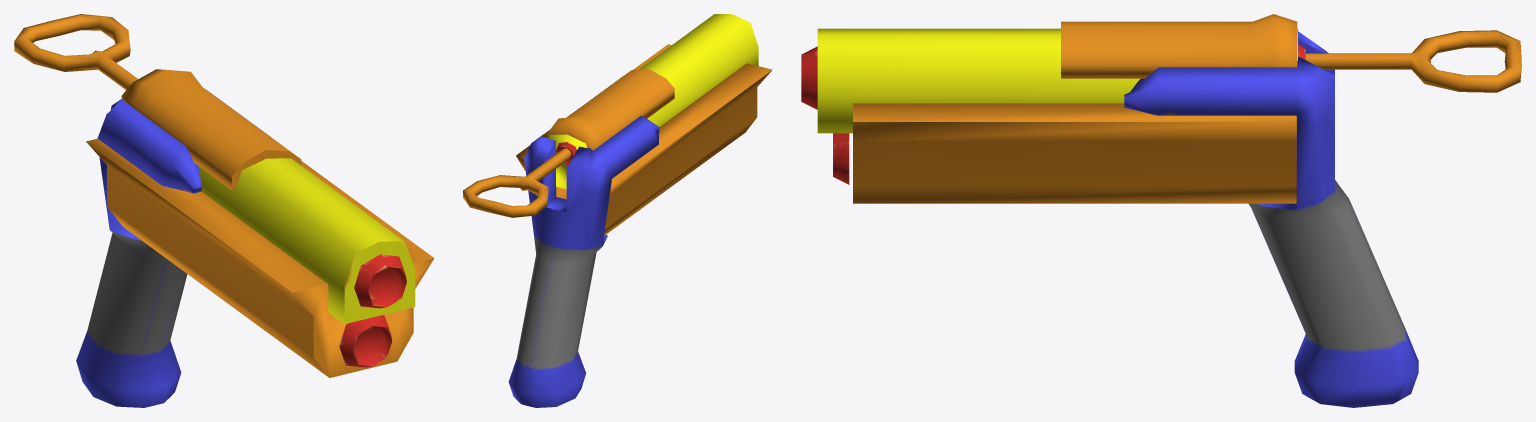
File: NerfGun.fbx
3 views of the same model, side by side, from view 1: azimuth 30°, elevation 25°; view 2: azimuth 150°, elevation 25°; view 3: azimuth 270°, elevation 25° (orthographic). The views are drawn at different scales.
Visible parts, largest first — view 1: NerfGun; view 2: NerfGun; view 3: NerfGun.
Boxes of the visible parts, x1,y1,x2,y2 form: NerfGun: (14, 14, 434, 407); NerfGun: (463, 14, 772, 407); NerfGun: (801, 14, 1521, 407).
Bounding box in the file's own units: 0.0594 × 0.138 × 0.2432.
